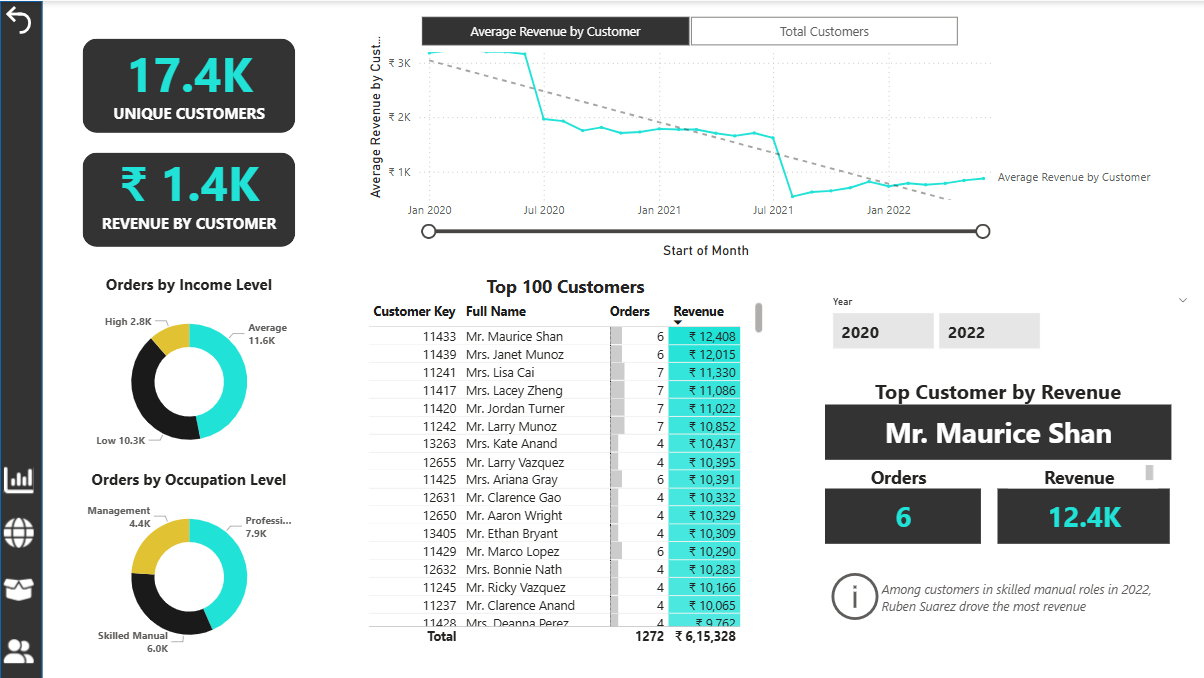

The dashboard page shown, as its layout file describes it:
{"tool":"powerbi","page":{"name":"Customer Detail","canvas":[1280,720],"ordinal":3},"visuals":[{"type":"shape","box":[0,0,45,720],"z":0},{"type":"actionButton","box":[0,487.9,44.5,39.7],"z":1000,"group":"g1"},{"type":"shape","box":[87.4,160.5,225.7,100.1],"z":1000},{"type":"shape","box":[87.4,39.7,225.7,100.1],"z":2000},{"type":"actionButton","box":[0,603.9,44.5,39.7],"z":2000,"group":"g1"},{"type":"card","fields":{"Values":["Measure Table.Total Customers"]},"box":[87.4,9.5,225.7,151],"z":3000},{"type":"actionButton","box":[0,669.1,44.5,39.7],"z":3000,"group":"g1"},{"type":"actionButton","box":[0,543.5,44.5,39.7],"z":4000,"group":"g1"},{"type":"card","fields":{"Values":["Measure Table.Average Revenue by Customer"]},"box":[87.4,125.6,225.7,151],"z":4000},{"type":"lineChart","title":"Customers Trending","fields":{"Y":["Measure Table.Average Revenue by Customer"],"Category":["Calendar Lookup.Year","Calendar Lookup.Start of Quarter","Calendar Lookup.Start of Month","Calendar Lookup.Date"]},"box":[384.6,22.3,856.7,254.3],"z":5000},{"type":"donutChart","title":"Orders by Income Level","fields":{"Category":["Customer Lookup.Income Level"],"Y":["Measure Table.Total Orders"]},"box":[87.4,289.3,225.7,206.6],"z":6000},{"type":"donutChart","title":"Orders by Occupation Level","fields":{"Y":["Measure Table.Total Orders"],"Category":["Customer Lookup.Occupation"]},"box":[87.4,495.9,225.7,206.6],"z":7000},{"type":"tableEx","title":"Top 100 Customers","fields":{"Values":["Customer Lookup.CustomerKey","Customer Lookup.Full Name","Measure Table.Total Orders","Measure Table.Total Revenue"]},"box":[384.6,289.3,429.1,397.4],"z":8000},{"type":"card","fields":{"Values":["Measure Table.Full Name (Customer Detail)"]},"box":[874.2,428.6,367.2,58.8],"z":9000},{"type":"card","fields":{"Values":["Measure Table.Total Revenue (Customer Detail)"]},"box":[1058.5,517.6,182.8,58.8],"z":10000},{"type":"card","fields":{"Values":["Measure Table.Total Orders (Customer Detail)"]},"box":[874.2,517.6,165.3,58.8],"z":11000},{"type":"textbox","box":[874.2,392.6,367.2,49.3],"z":12000},{"type":"textbox","box":[888.5,487.4,127.2,54],"z":13000},{"type":"textbox","box":[1069.7,487.4,158.9,30.2],"z":14000},{"type":"slicer","fields":{"Values":["Calendar Lookup.Year"]},"box":[869.4,306.8,402.1,84.2],"z":15000},{"type":"actionButton","box":[874.2,599.2,367.2,63.6],"z":16000},{"type":"actionButton","box":[0,0,44.5,39.7],"z":17000},{"type":"group","id":"g1","title":"Navigation Buttons","box":[0,487.9,44.5,220.9],"z":18000},{"type":"slicer","fields":{"Values":["Customer Metric Selection.Customer Metric Selection"]},"box":[421.2,9.5,618.3,44.5],"z":18501}]}

Visuals, with their boxes on the page's 1280x720 design canvas (x1, y1, x2, y2). These are canvas units, not pixel positions in the 1204x678 screenshot, which may show the page scaled, cropped or inside an application window:
shape: locate(0, 0, 45, 720)
actionButton: locate(0, 488, 44, 528)
shape: locate(87, 160, 313, 261)
shape: locate(87, 40, 313, 140)
actionButton: locate(0, 604, 44, 644)
card - Measure Table.Total Customers: locate(87, 10, 313, 160)
actionButton: locate(0, 669, 44, 709)
actionButton: locate(0, 544, 44, 583)
card - Measure Table.Average Revenue by Customer: locate(87, 126, 313, 277)
"Customers Trending" lineChart: locate(385, 22, 1241, 277)
"Orders by Income Level" donutChart: locate(87, 289, 313, 496)
"Orders by Occupation Level" donutChart: locate(87, 496, 313, 702)
"Top 100 Customers" tableEx: locate(385, 289, 814, 687)
card - Measure Table.Full Name (Customer Detail): locate(874, 429, 1241, 487)
card - Measure Table.Total Revenue (Customer Detail): locate(1058, 518, 1241, 576)
card - Measure Table.Total Orders (Customer Detail): locate(874, 518, 1040, 576)
textbox: locate(874, 393, 1241, 442)
textbox: locate(888, 487, 1016, 541)
textbox: locate(1070, 487, 1229, 518)
slicer - Calendar Lookup.Year: locate(869, 307, 1272, 391)
actionButton: locate(874, 599, 1241, 663)
actionButton: locate(0, 0, 44, 40)
"Navigation Buttons" group: locate(0, 488, 44, 709)
slicer - Customer Metric Selection.Customer Metric Selection: locate(421, 10, 1040, 54)
